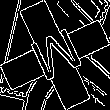M_SE: (24, 23, 86, 87)
